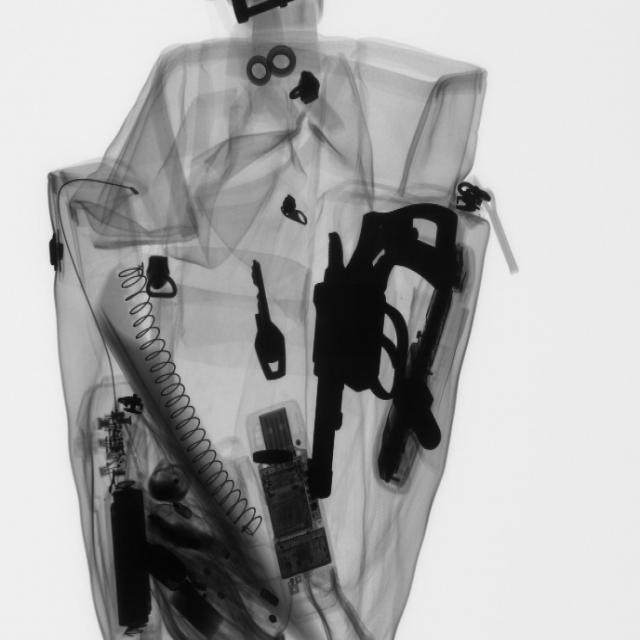GUN: (303, 192, 454, 510)
